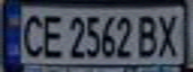2: (63, 11, 87, 60), (115, 12, 136, 60)
5: (81, 11, 103, 60)
6: (100, 12, 118, 60)
B: (136, 11, 163, 58)
C: (18, 10, 45, 60)
E: (36, 10, 66, 60)
X: (154, 10, 184, 58)
